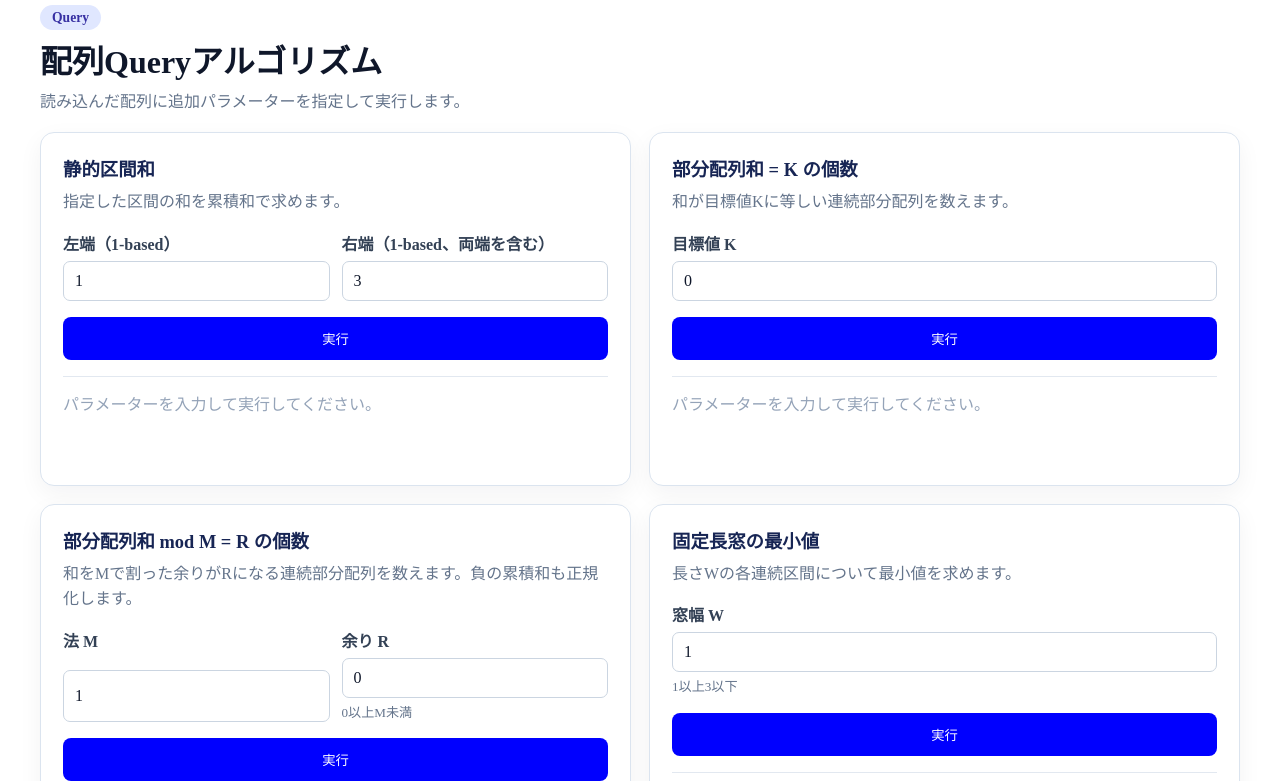
ArrayQueryAlgorithms › sends a validated window size
Step 1. Replace the text in the number field labelled "窓幅 W" with "2" → [944, 652], box [672, 632, 1217, 672]
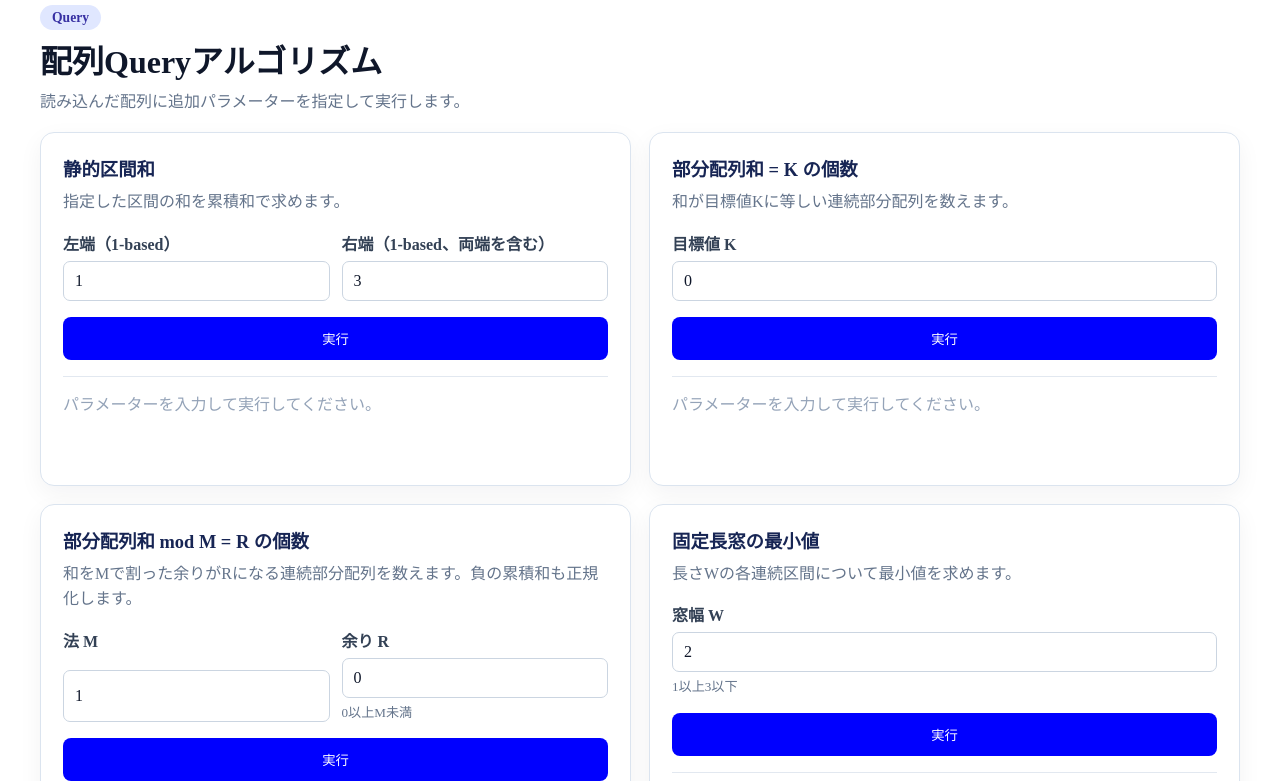
Step 2. Click the 3rd button "実行" → [944, 734], box [672, 713, 1217, 756]
(page scrolled)
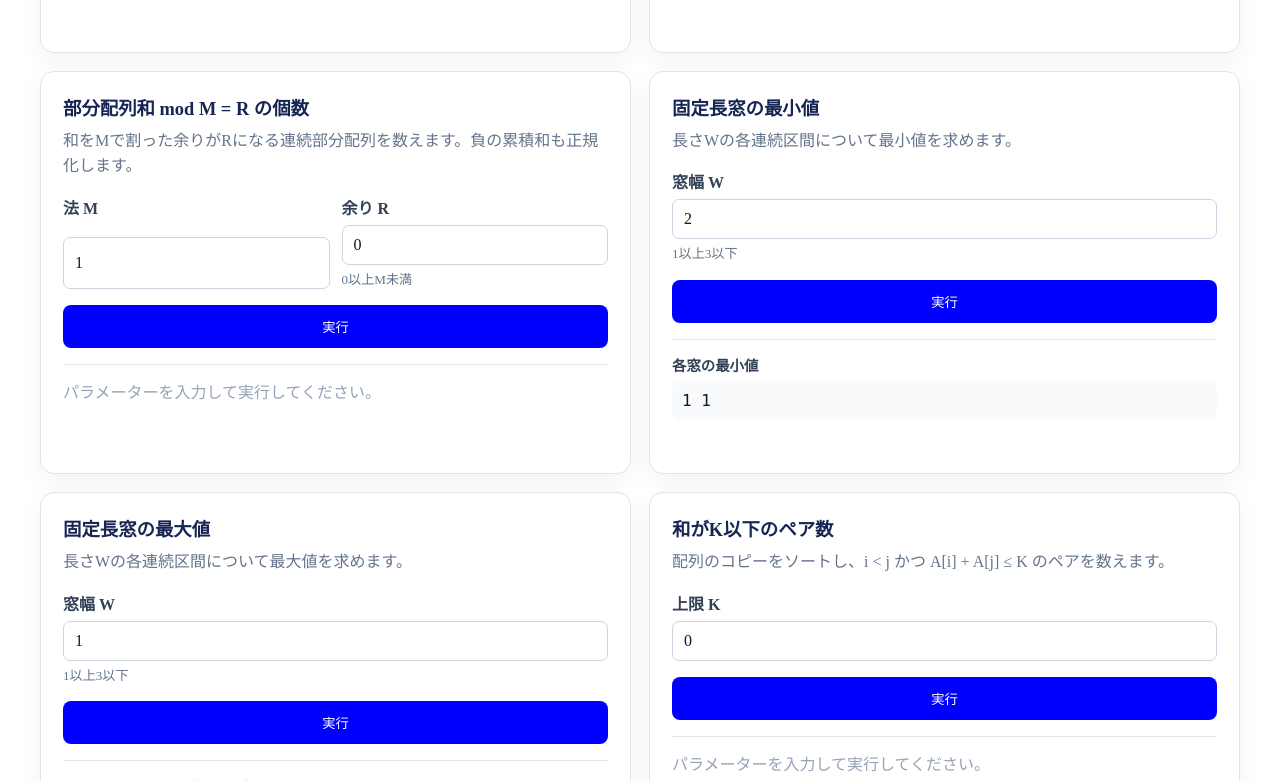
Check: the text "1 1" is shown, box [672, 381, 1217, 420]
